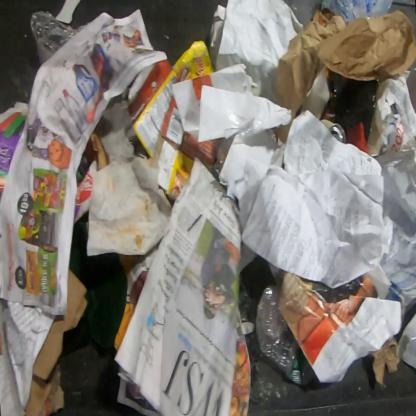cardboard: (126, 39, 229, 204), (21, 267, 90, 415), (0, 101, 31, 207), (369, 332, 403, 387)
metal: (320, 119, 346, 144)
rigid_plastic: (256, 285, 315, 384)
soft_plastic: (28, 9, 83, 70)
